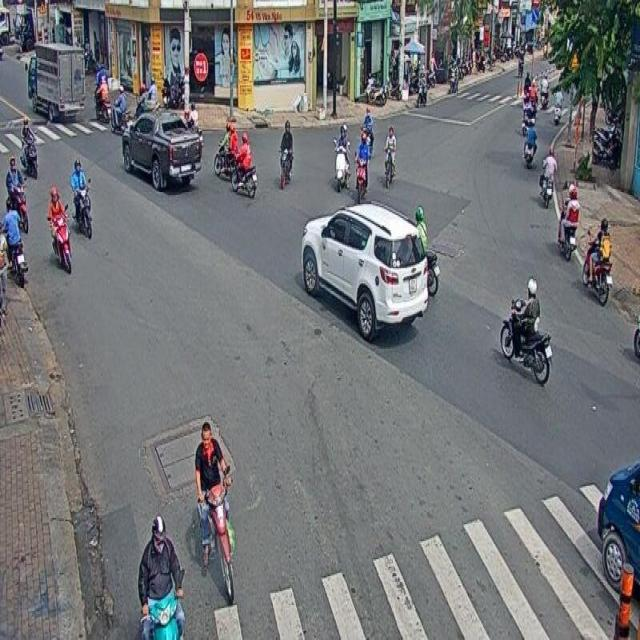car: (301, 203, 428, 338), (121, 111, 201, 189)
motorcycle: (194, 419, 234, 602), (499, 277, 552, 387), (582, 218, 612, 306), (46, 186, 71, 271), (230, 131, 257, 198), (6, 154, 28, 235), (70, 159, 92, 236), (557, 184, 578, 259), (539, 146, 558, 208), (333, 125, 350, 193), (20, 116, 38, 178), (353, 131, 368, 200), (279, 119, 293, 189), (382, 125, 396, 189)
